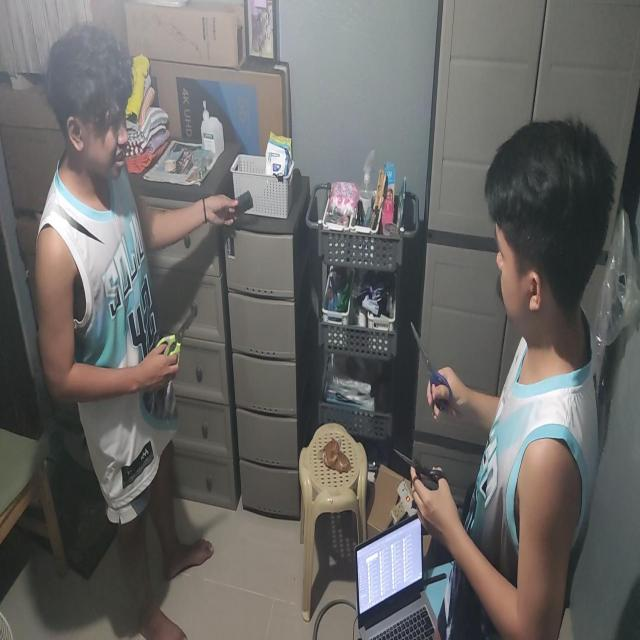scissor: (409, 320, 453, 413), (392, 447, 452, 497), (155, 307, 197, 374)
